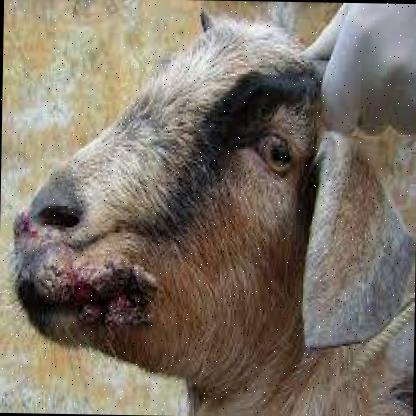ppr: (11, 198, 160, 342)
